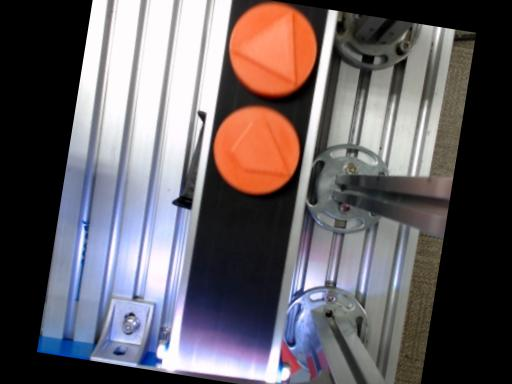Orange_Waper: (229, 1, 316, 96), (213, 104, 299, 193)
